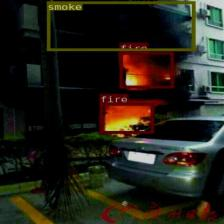fire: (119, 52, 174, 88), (99, 103, 153, 133)
smoke: (46, 1, 195, 50)
